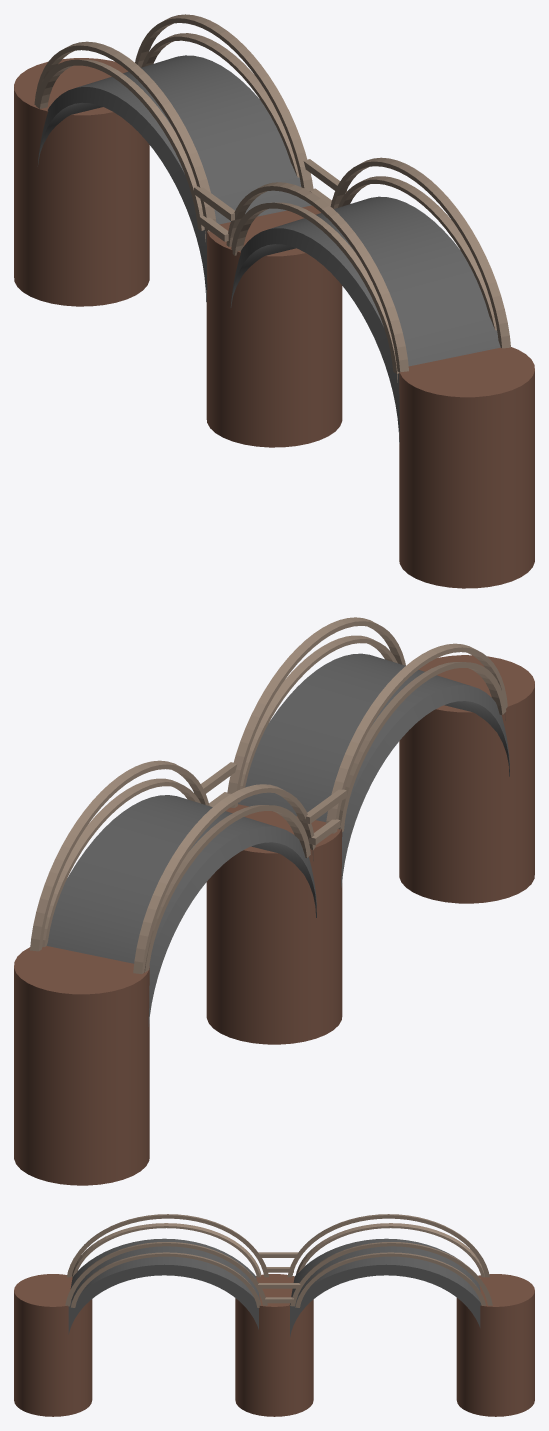
File: arch.glb
The picture shows the model from 3 angles, top to bottom: view 1: azimuth 30°, elevation 25°; view 2: azimuth 150°, elevation 25°; view 3: azimuth 270°, elevation 25°; orthographic projection. The views are drawn at different scales.
Parts seen in each view (by area): view 1: Circle; view 2: Circle; view 3: Circle.
Boxes of the visible parts, x1,y1,x2,y2 form: Circle: (14,14,534,588); Circle: (14,617,534,1185); Circle: (14,1214,534,1416).
Bounding box in the file's own units: 3.07 × 7.48 × 20.47.
